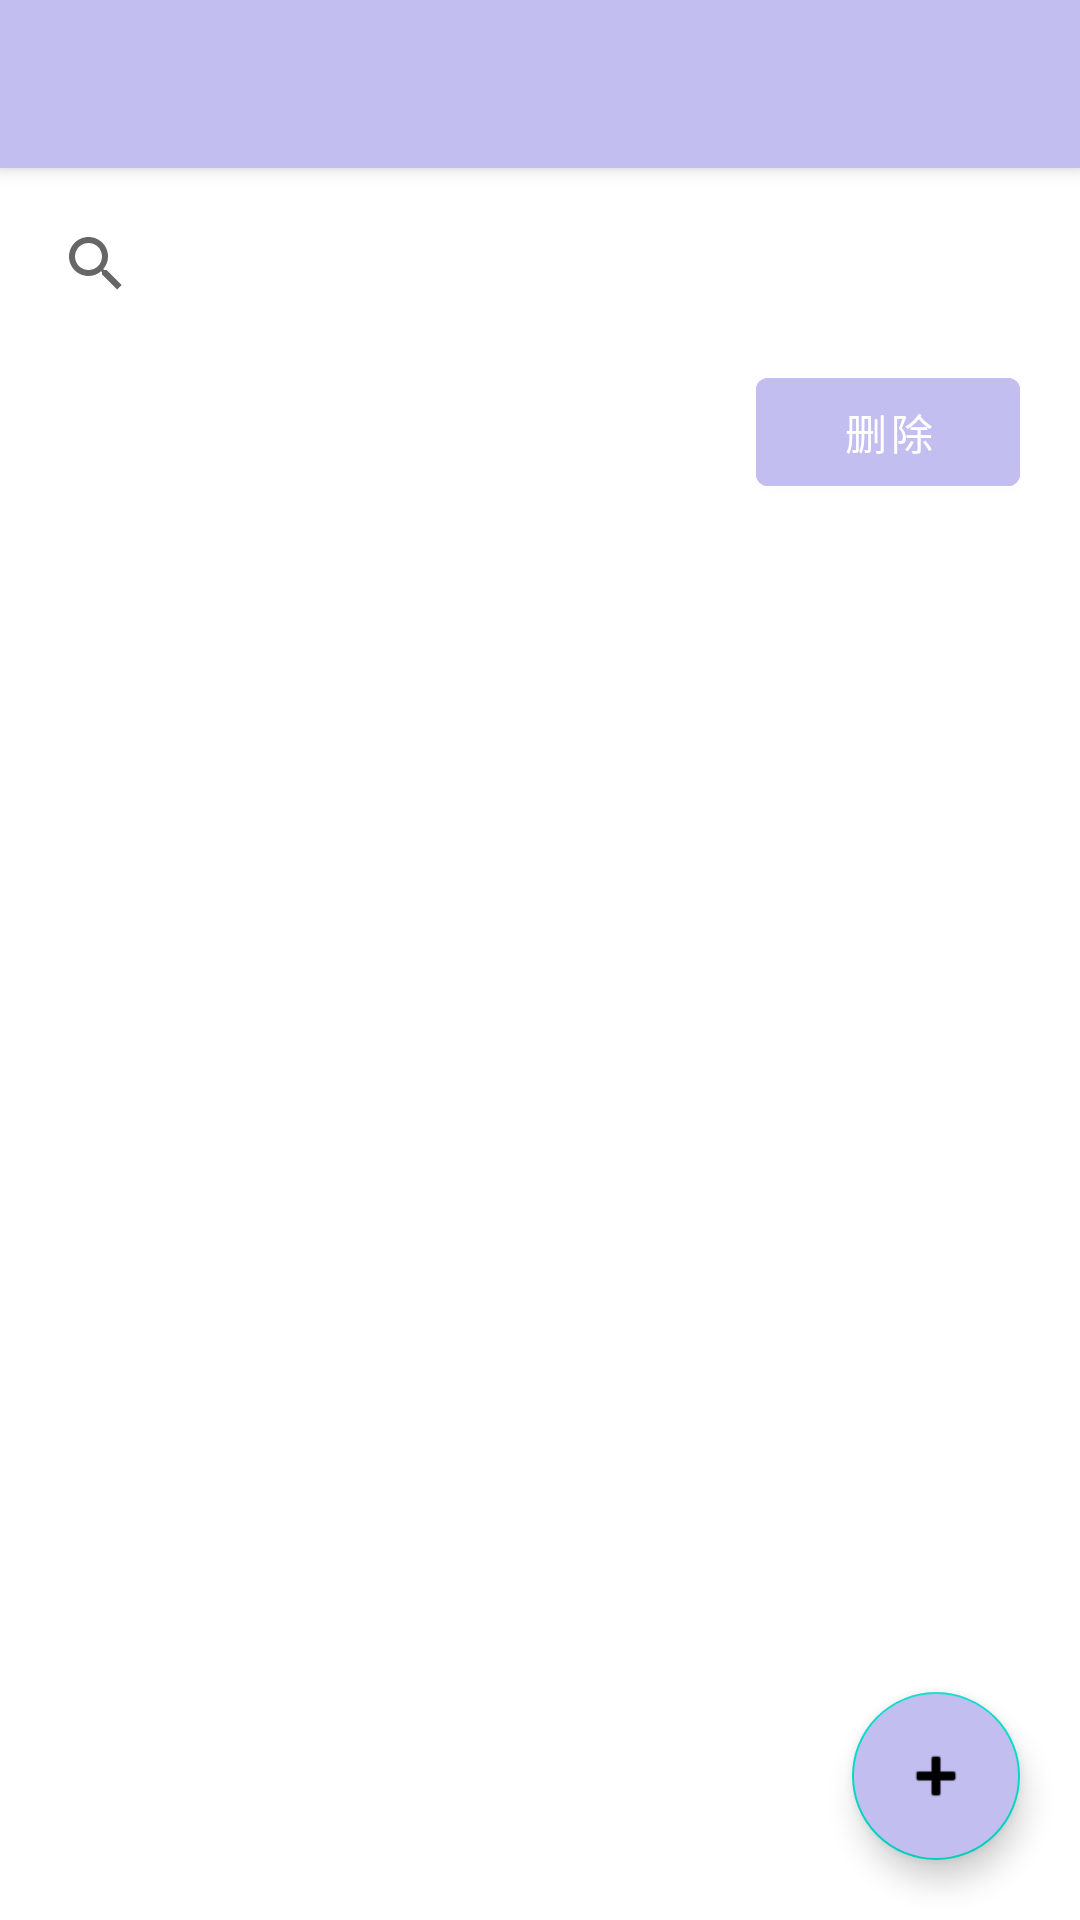

Where icons sit on this 1080x1920 app screen, as (x1, y1, x2, y2):
Add Note: (852, 1692, 1020, 1860)
